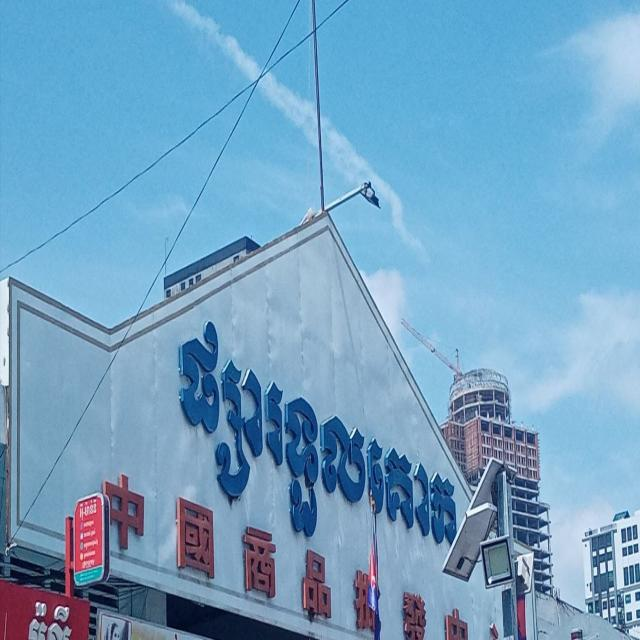Yolov11kh: (156, 302, 468, 571), (76, 488, 99, 522)
